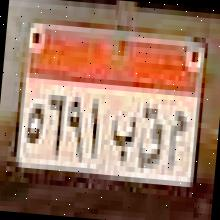1: (84, 94, 106, 158)
5: (23, 94, 46, 147)
6: (42, 88, 68, 156)
9: (63, 92, 88, 162)
baa: (108, 108, 140, 166)
meem: (164, 105, 190, 176)
qaaf: (134, 99, 166, 170)
